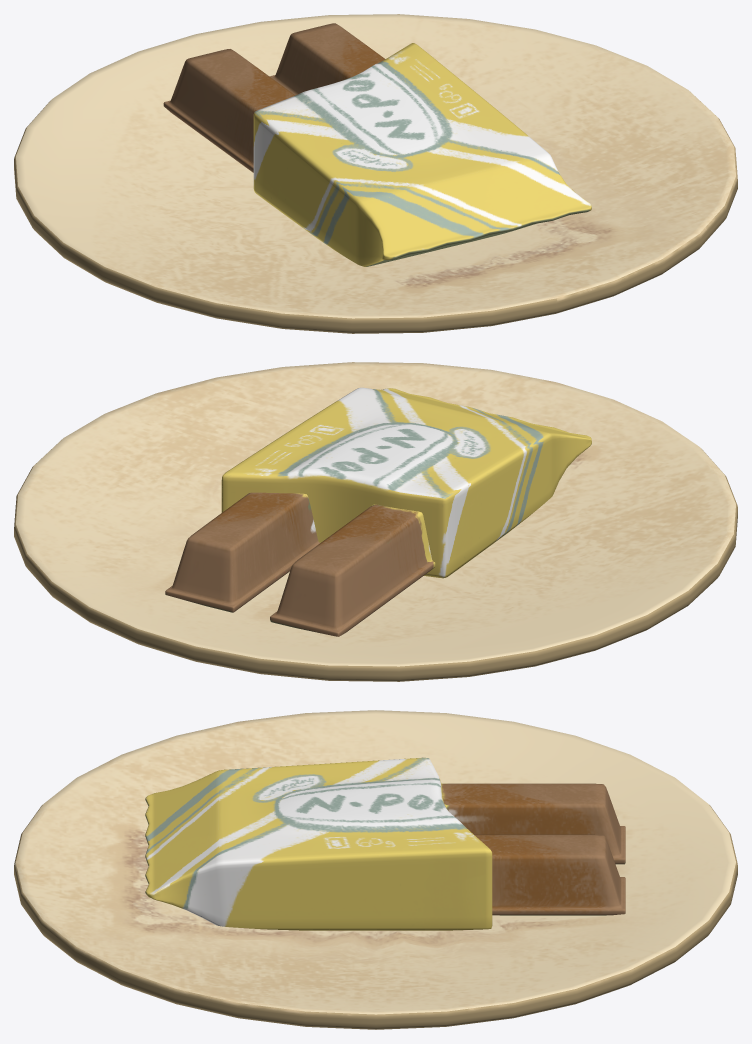
File: Snack_Pause.fbx
3 renders of one model, top to bottom at view 1: azimuth 30°, elevation 25°; view 2: azimuth 150°, elevation 25°; view 3: azimuth 270°, elevation 25°, orthographic.
Parts seen in each view (by area): view 1: Snack_for_Pause; view 2: Snack_for_Pause; view 3: Snack_for_Pause.
Part boxes in pixels (x1,y1,x2,y2): Snack_for_Pause: (14,14,737,333); Snack_for_Pause: (14,362,737,681); Snack_for_Pause: (14,710,737,1029).
Bounding box in the file's own units: 183 × 36.88 × 183.
1 material, 1 textured.
